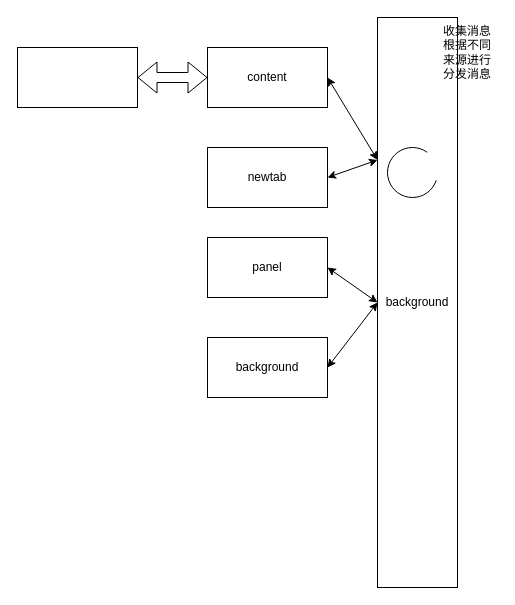
Image size: 515x605. Some labels were removed from this diagram. The shapes that lost their labels are listed below. From the top down, each one's centre as x and y in pixels, then its label:
(x=77, y=77): web
(x=412, y=172): 调度
